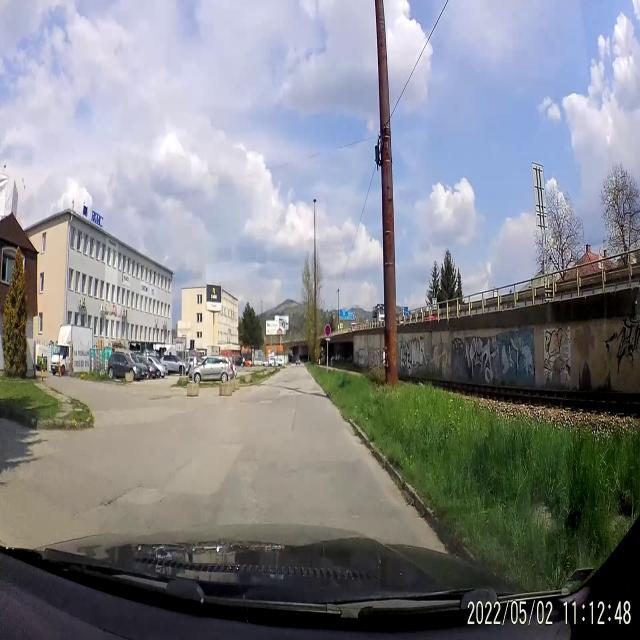Pothole: (98, 492, 121, 510), (356, 438, 364, 446), (349, 430, 356, 436)
